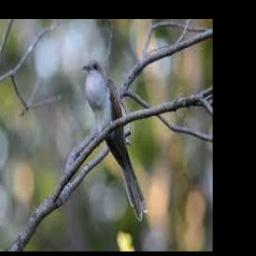Cuckoo: (82, 58, 148, 221)
